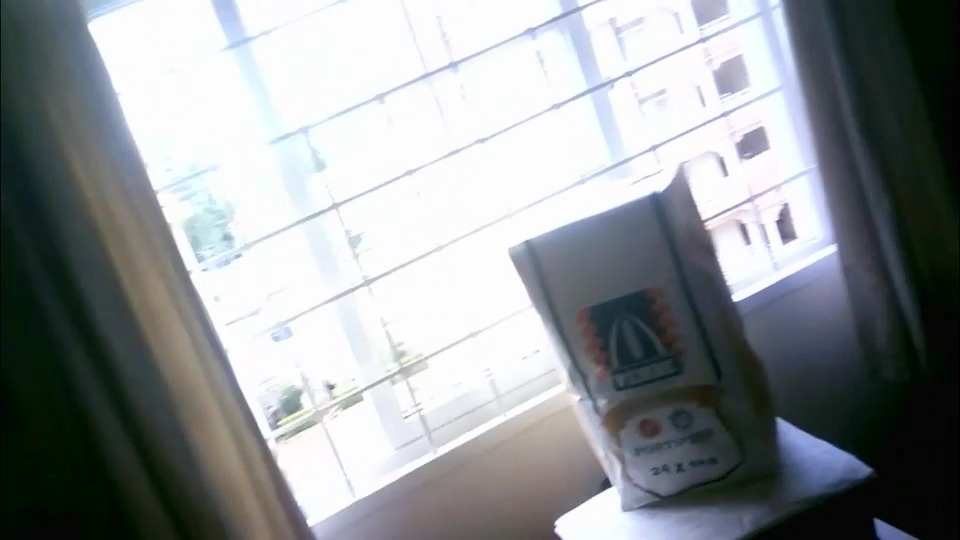maize_flour_green_label: (508, 167, 777, 509)
